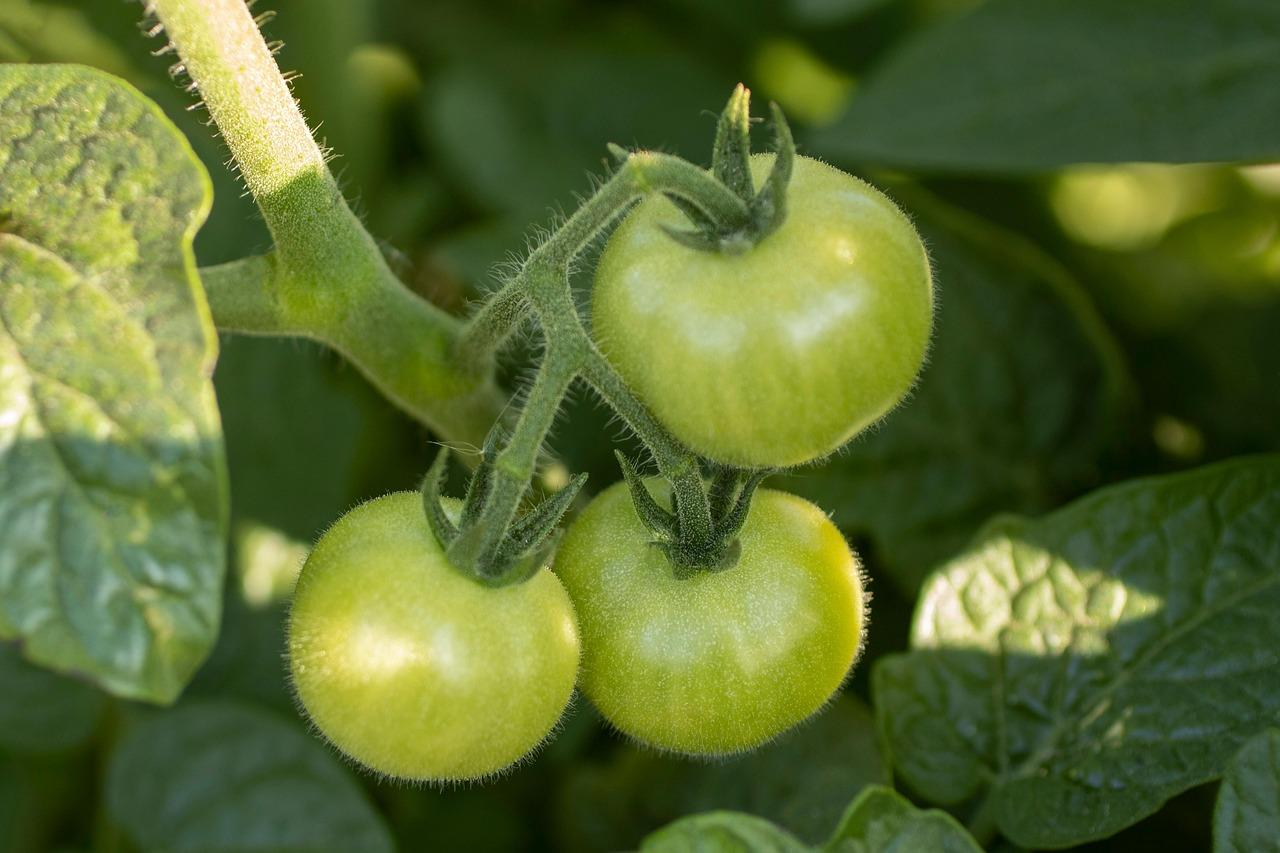Mengkal: (526, 118, 1006, 478), (258, 462, 578, 792), (574, 480, 870, 764)
